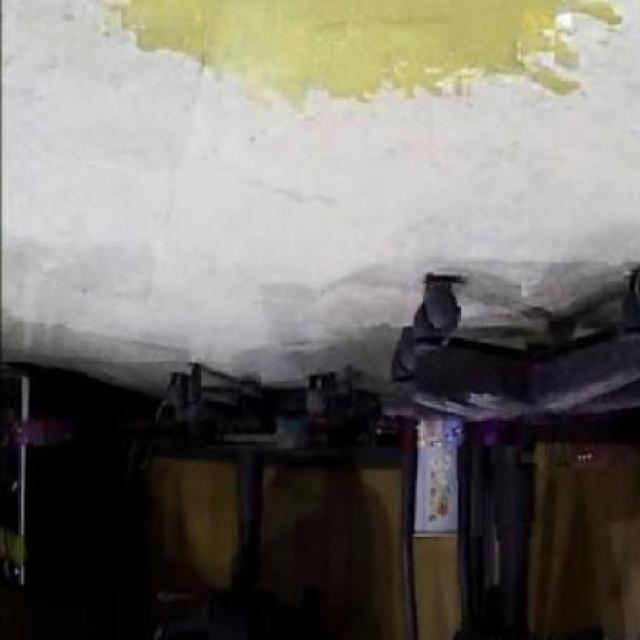spillage: (106, 0, 617, 98)
